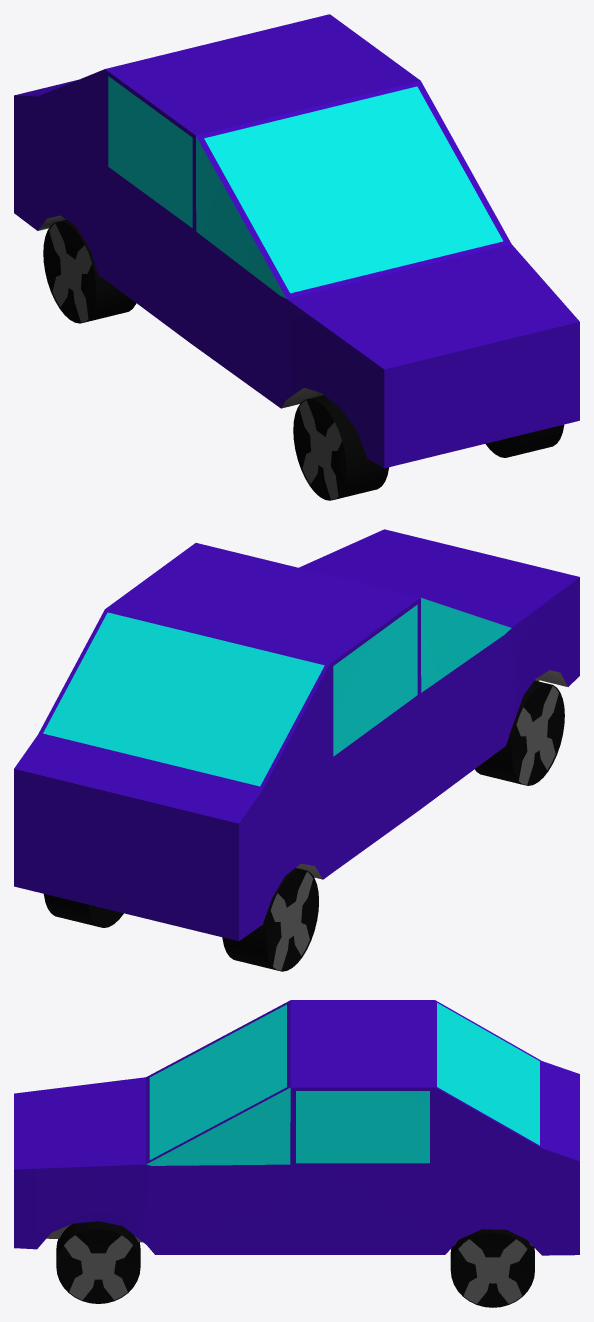
Rendered from Blue Toy Car.fbx.
3 views of the same model, one above another, from view 1: azimuth 30°, elevation 25°; view 2: azimuth 150°, elevation 25°; view 3: azimuth 270°, elevation 25° (orthographic). The views are drawn at different scales.
Parts seen in each view (by area): view 1: Toy Car (Blue); view 2: Toy Car (Blue); view 3: Toy Car (Blue).
Boxes of the visible parts, x1,y1,x2,y2 form: Toy Car (Blue): [14, 14, 579, 500]; Toy Car (Blue): [14, 529, 579, 971]; Toy Car (Blue): [14, 1000, 579, 1307].
Size of the model in its own units: 407 by 471 by 1095.
